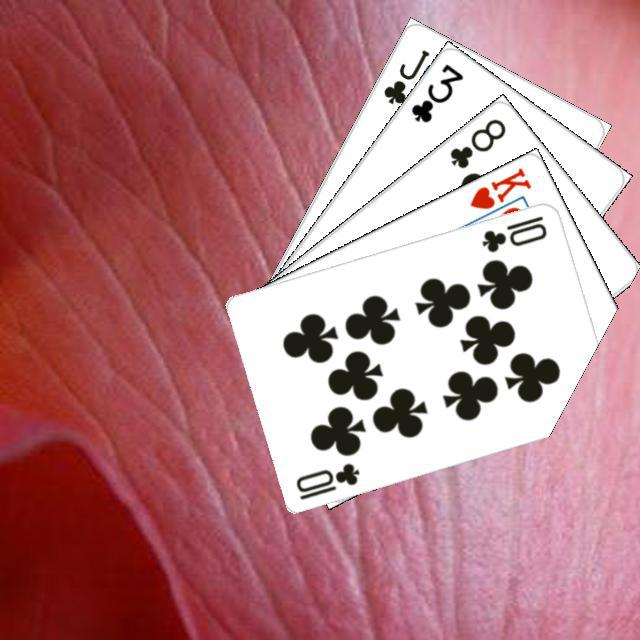10c: (290, 458, 362, 502), (477, 211, 549, 254)
3c: (406, 58, 465, 125)
8c: (444, 113, 508, 171)
Jc: (378, 44, 431, 106)
Kh: (465, 162, 533, 225)
